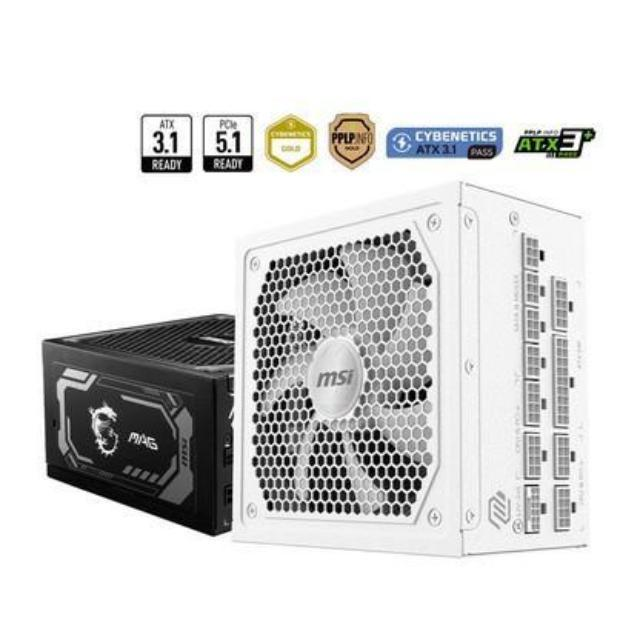PSU: (210, 168, 630, 574), (45, 292, 234, 548)
